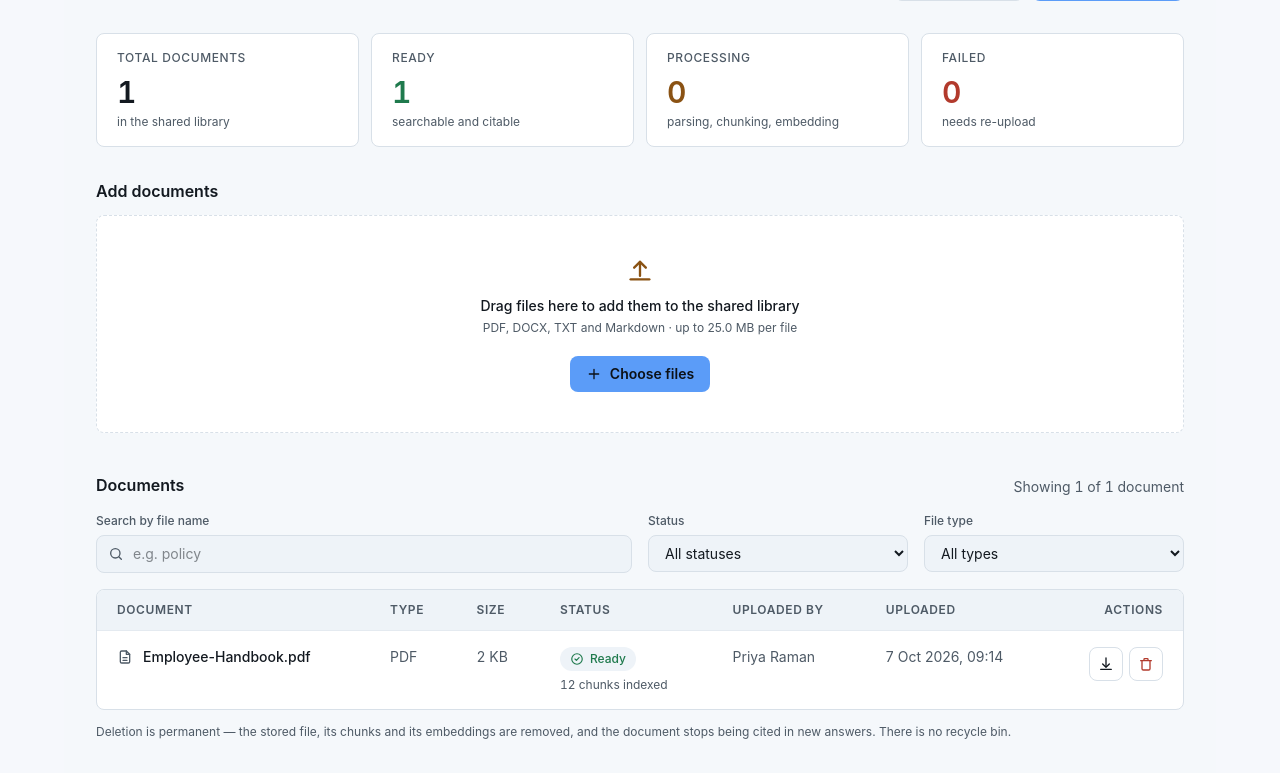
it: KnowledgeBase › AC-034: delete is offered for a document uploaded by someone else, and the dialog names it and warns it is permanent
(page scrolled)
Expected: the text "Employee-Handbook.pdf" is shown, top-left (143, 646), bottom-right (311, 666)
Click the button named "Delete Employee-Handbook.pdf": (1146,664) top-left (1129, 646), bottom-right (1163, 680)
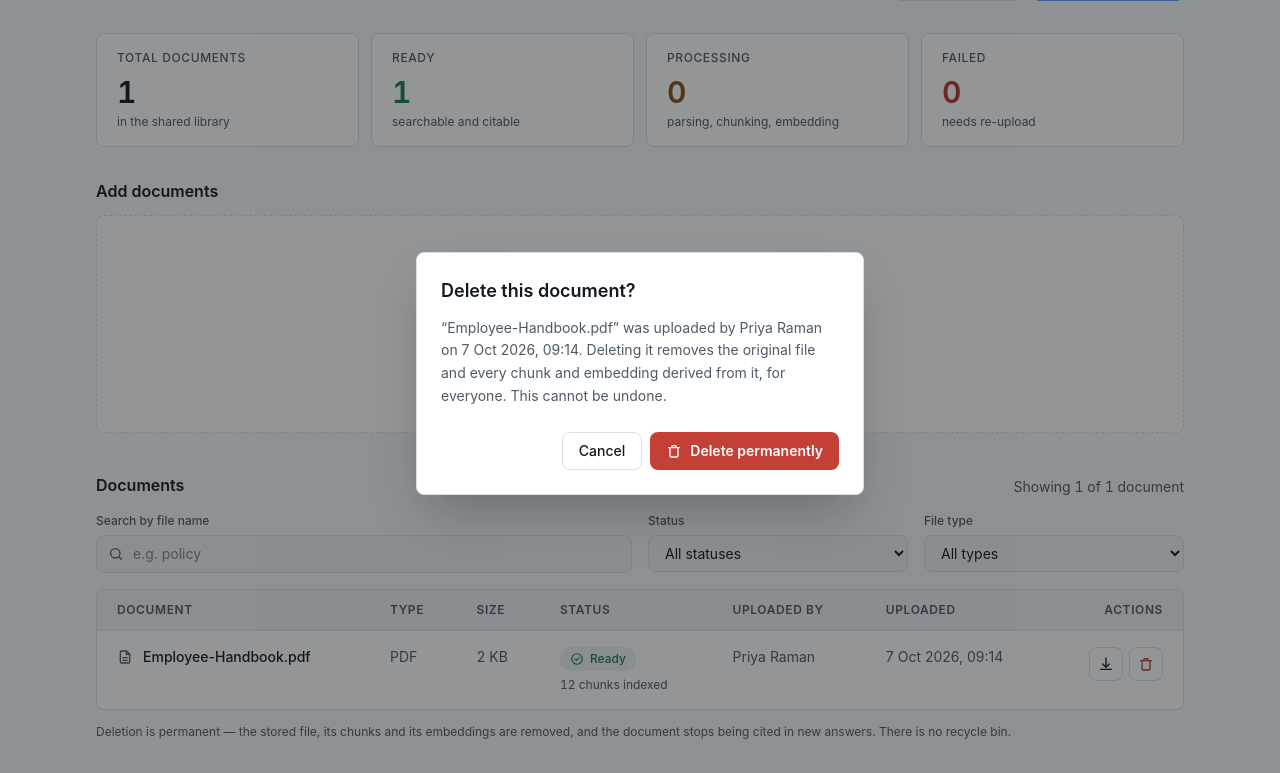
Expected: the text "Employee-Handbook.pdf" is shown, top-left (447, 318), bottom-right (613, 336)
Expected: the text "cannot be undone" is shown, top-left (441, 341), bottom-right (816, 404)
